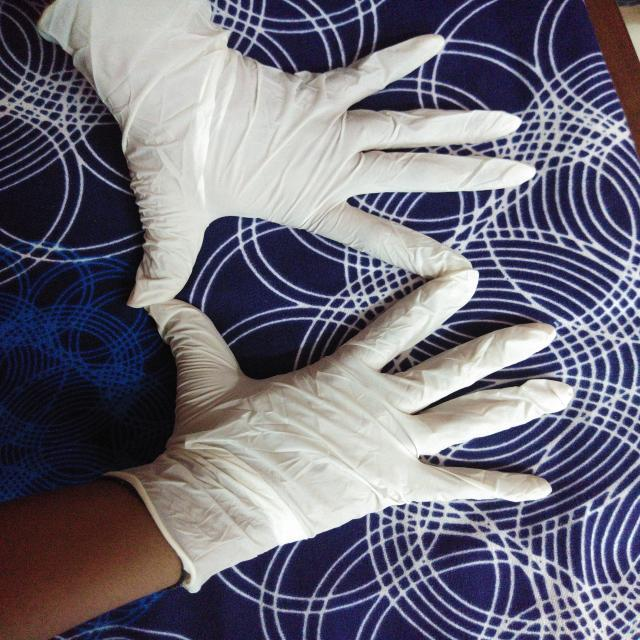glove_hand: (24, 2, 542, 314), (92, 264, 580, 594)
